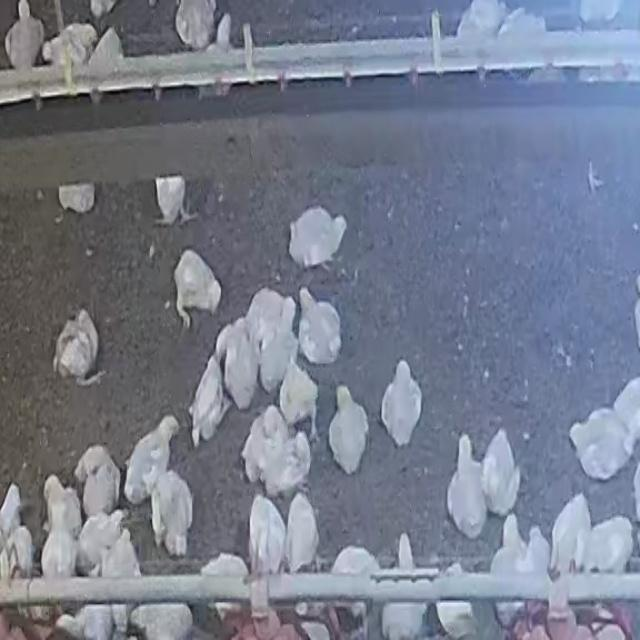chicken: (122, 417, 180, 509), (380, 533, 427, 640), (570, 408, 632, 480), (446, 434, 488, 538), (40, 475, 81, 577), (53, 308, 105, 388), (150, 469, 196, 557), (188, 351, 230, 447), (198, 552, 251, 628), (172, 248, 221, 328), (286, 206, 351, 266), (327, 384, 369, 476), (493, 510, 527, 622), (221, 317, 261, 412), (264, 294, 301, 395), (73, 444, 121, 520), (296, 287, 342, 366), (481, 428, 521, 518), (247, 493, 288, 578), (548, 494, 589, 574), (381, 361, 420, 444), (580, 515, 634, 574), (278, 360, 319, 434), (4, 1, 46, 69), (285, 492, 320, 571), (76, 506, 122, 563), (130, 602, 194, 640), (58, 603, 123, 640), (434, 601, 482, 640), (329, 546, 378, 578)
